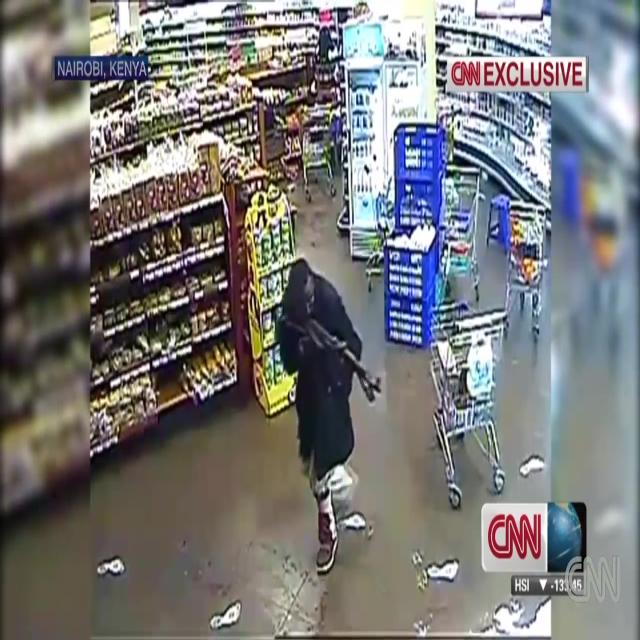Weapon: (272, 296, 398, 423)
